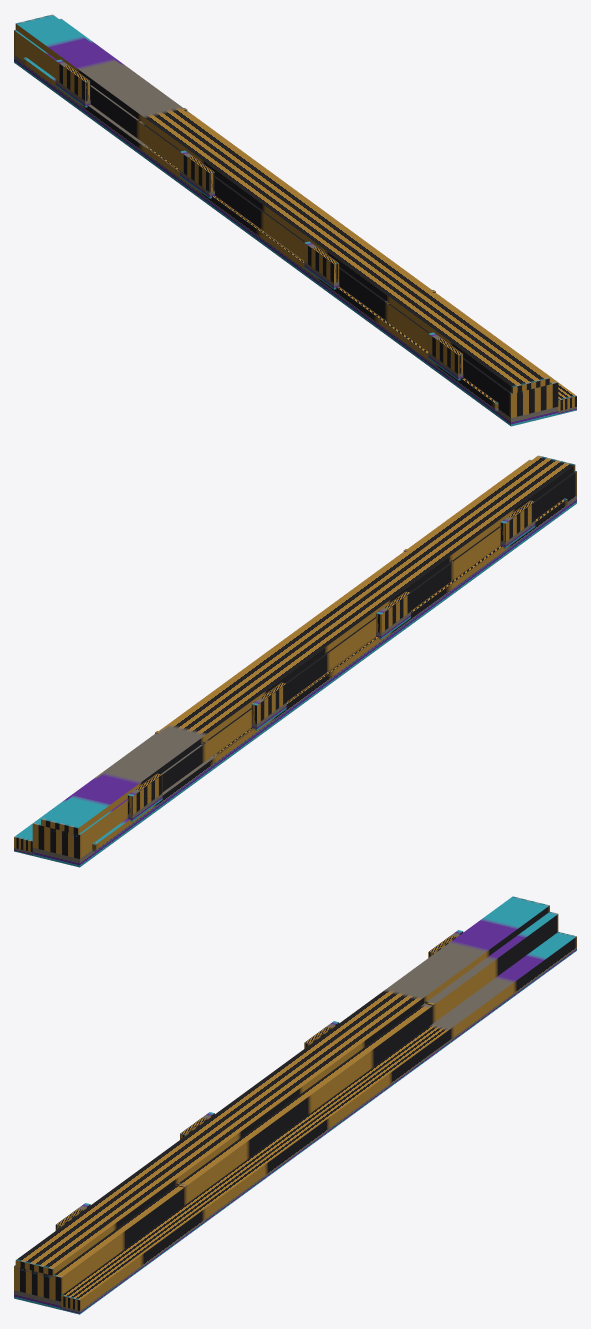
Rendered from SM_Track_CairoCurb_A.obj.
3 views of the same model, one above another, from view 1: azimuth 30°, elevation 25°; view 2: azimuth 150°, elevation 25°; view 3: azimuth 330°, elevation 25° (orthographic).
Visible parts, largest first — view 1: CurbCap_03, CurbBody_01, NeonChannel_08, ReflectorMount_04, ReflectorMount_06, ReflectorMount_07, ReflectorMount_05; view 2: CurbCap_03, CurbBody_01, NeonChannel_08, ReflectorMount_07, ReflectorMount_04, ReflectorMount_05, ReflectorMount_06; view 3: CurbCap_03, ShoulderLip_02, CurbBody_01.
Boxes of the visible parts, <box> form: CurbCap_03: <box>15,14,549,393</box>; CurbBody_01: <box>14,18,558,426</box>; NeonChannel_08: <box>23,57,498,410</box>; ReflectorMount_04: <box>55,59,90,107</box>; ReflectorMount_06: <box>304,241,339,289</box>; ReflectorMount_07: <box>428,332,463,380</box>; ReflectorMount_05: <box>180,150,214,198</box>; CurbCap_03: <box>41,455,575,836</box>; CurbBody_01: <box>32,459,576,867</box>; NeonChannel_08: <box>92,498,567,851</box>; ReflectorMount_07: <box>500,500,535,548</box>; ReflectorMount_04: <box>127,773,162,821</box>; ReflectorMount_05: <box>251,682,286,730</box>; ReflectorMount_06: <box>376,591,410,639</box>; CurbCap_03: <box>15,896,549,1277</box>; ShoulderLip_02: <box>61,932,576,1314</box>; CurbBody_01: <box>14,912,558,1309</box>.
Size of the model in its own units: 0.83 by 0.43 by 10.
Materials: 1 (1 with a texture image).
